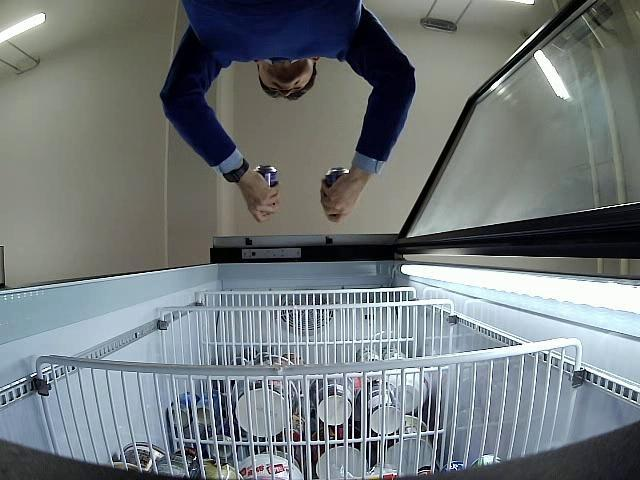14_welchsGrape: (254, 166, 278, 189), (324, 167, 350, 186)
